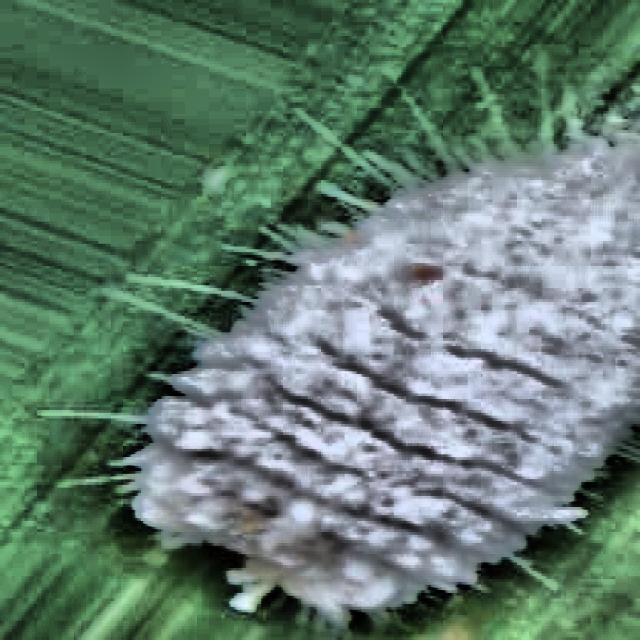Mealy-bug: (57, 128, 629, 640)
